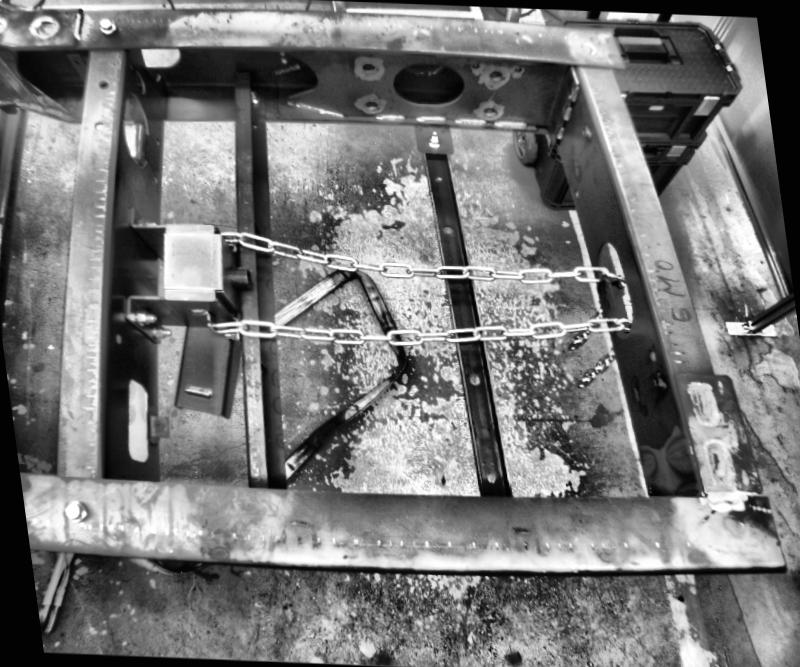bolt: (91, 9, 119, 35), (130, 307, 156, 323), (650, 371, 669, 391), (242, 86, 262, 101), (148, 324, 170, 337), (425, 124, 438, 145), (136, 214, 156, 227), (581, 124, 590, 138)
bracket: (592, 267, 618, 314), (142, 410, 170, 441)
hole: (384, 58, 468, 106), (116, 370, 150, 465), (119, 91, 150, 172), (130, 38, 186, 69), (355, 57, 376, 72), (362, 97, 378, 110), (485, 69, 502, 81), (481, 103, 497, 114), (467, 370, 480, 383), (440, 221, 452, 233), (646, 348, 658, 359), (112, 329, 122, 342), (485, 472, 496, 483), (90, 119, 102, 129), (96, 76, 107, 86), (432, 173, 442, 181), (152, 419, 162, 426)
welding: (548, 121, 564, 136), (566, 82, 579, 99), (557, 105, 573, 117)
